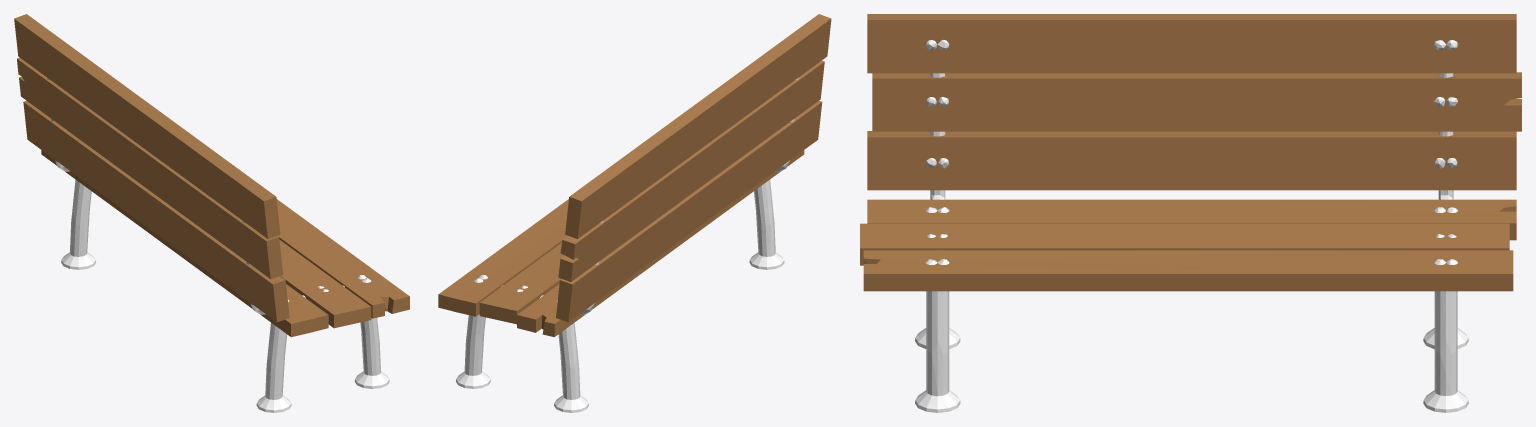
File: Bank.fbx
The picture shows the model from 3 angles, left to right: view 1: azimuth 30°, elevation 25°; view 2: azimuth 150°, elevation 25°; view 3: azimuth 270°, elevation 25°; orthographic projection. The views are drawn at different scales.
Visible parts, largest first — view 1: bank; view 2: bank; view 3: bank.
Boxes of the visible parts, x1,y1,x2,y2 form: bank: (14, 14, 409, 412); bank: (438, 14, 831, 412); bank: (860, 14, 1521, 412).
Size of the model in its own units: 356 by 530 by 1041.
